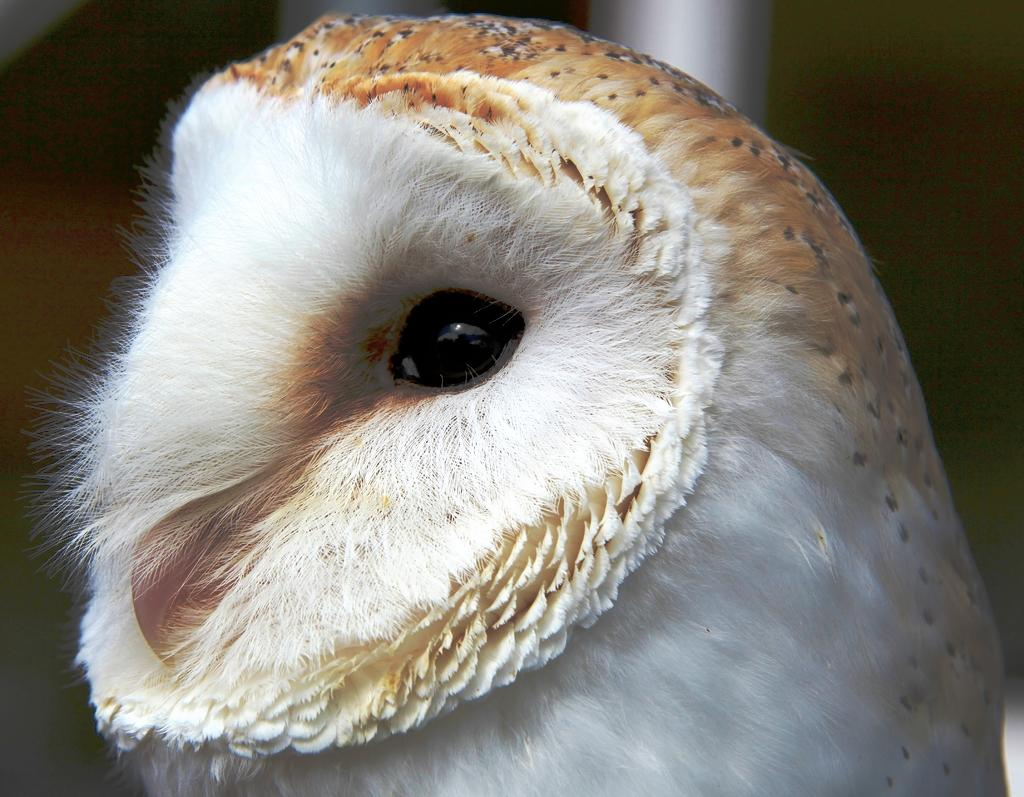Owl: (30, 17, 1012, 796)
